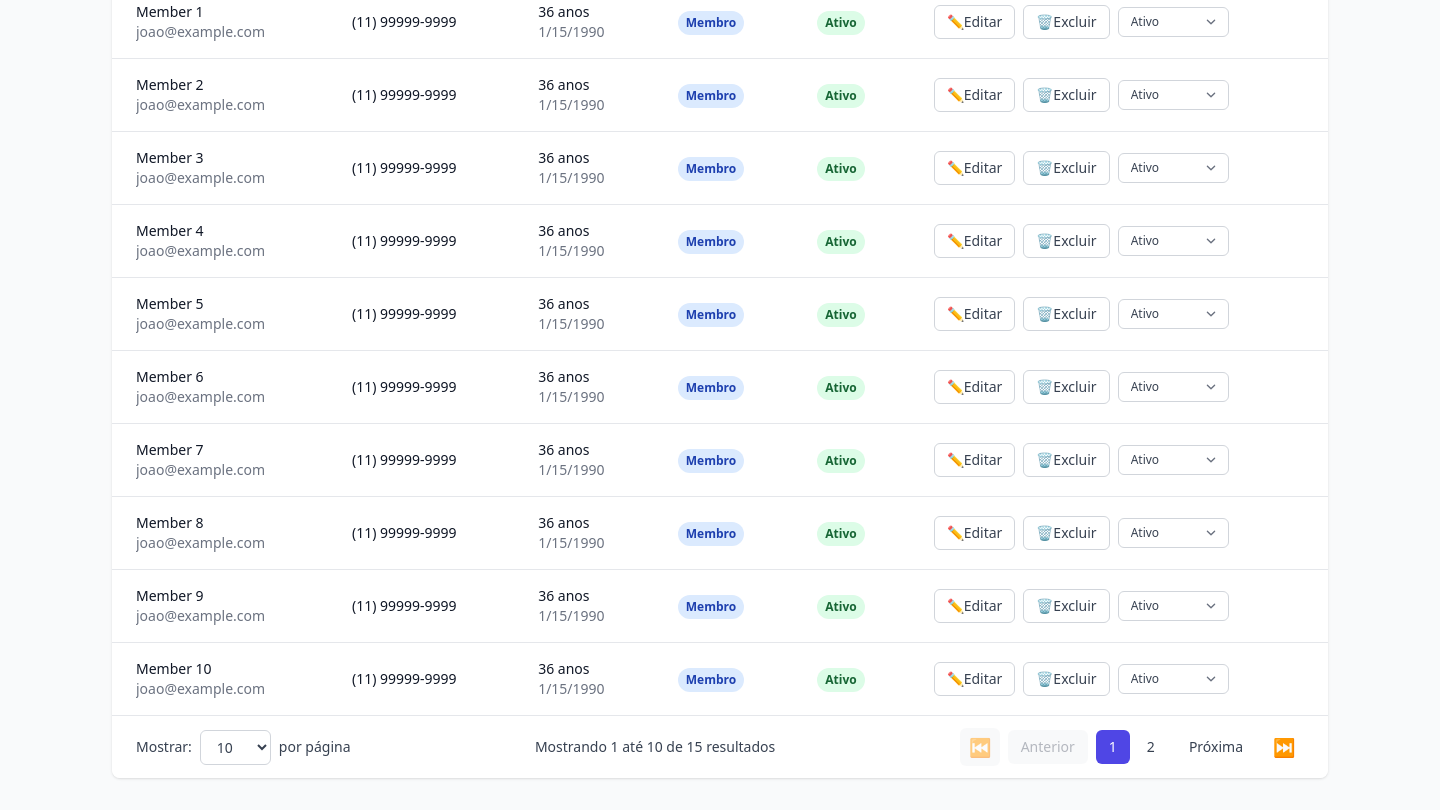
Test: MembersManagementPage › Pagination › should navigate to next page
The image size is (1440, 810).
(page scrolled)
Expected: the text "Member 1" is shown, [136,2,204,21]
// Click next page button
Click the button "Próxima" at (1216, 747), box [1176,730,1256,764]
(page scrolled)
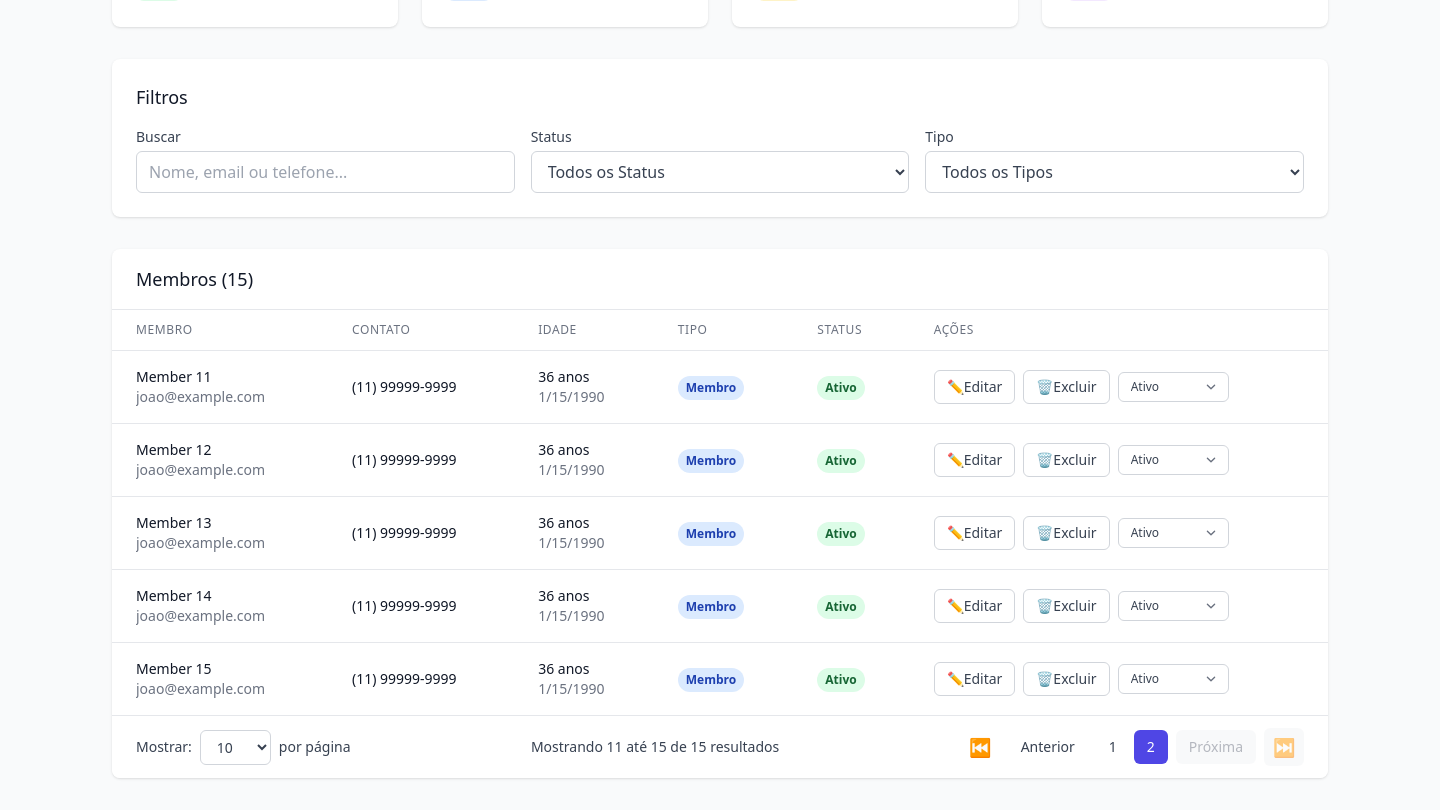
Result: the text "Member 11" is shown at [136,367,212,386]
Result: the text "Member 15" is shown at [136,659,212,678]
